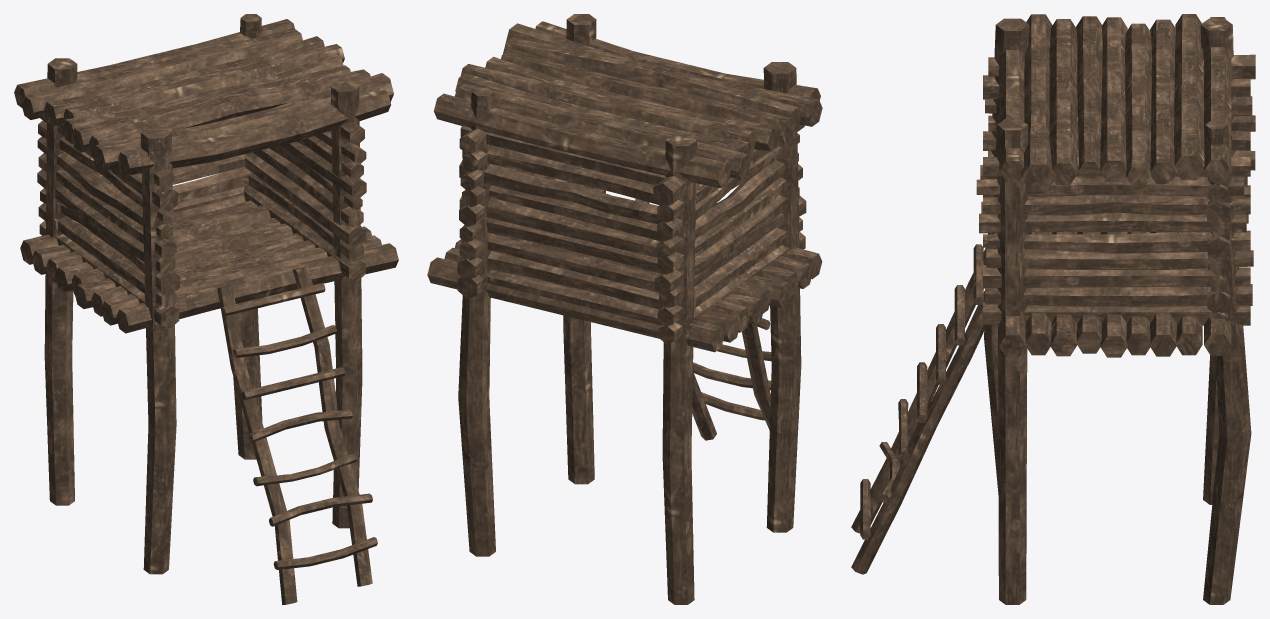
Rendered from shack_high.glb.
3 views of the same model, side by side, from view 1: azimuth 30°, elevation 25°; view 2: azimuth 150°, elevation 25°; view 3: azimuth 270°, elevation 25° (orthographic). The views are drawn at different scales.
Visible parts, largest first — view 1: shack_high; view 2: shack_high; view 3: shack_high.
Boxes of the visible parts, <box> form: shack_high: <box>14,14,398,604</box>; shack_high: <box>427,14,822,604</box>; shack_high: <box>851,14,1255,604</box>.
Bounding box in the file's own units: 2.69 × 3.88 × 3.
1 material, 1 textured.
